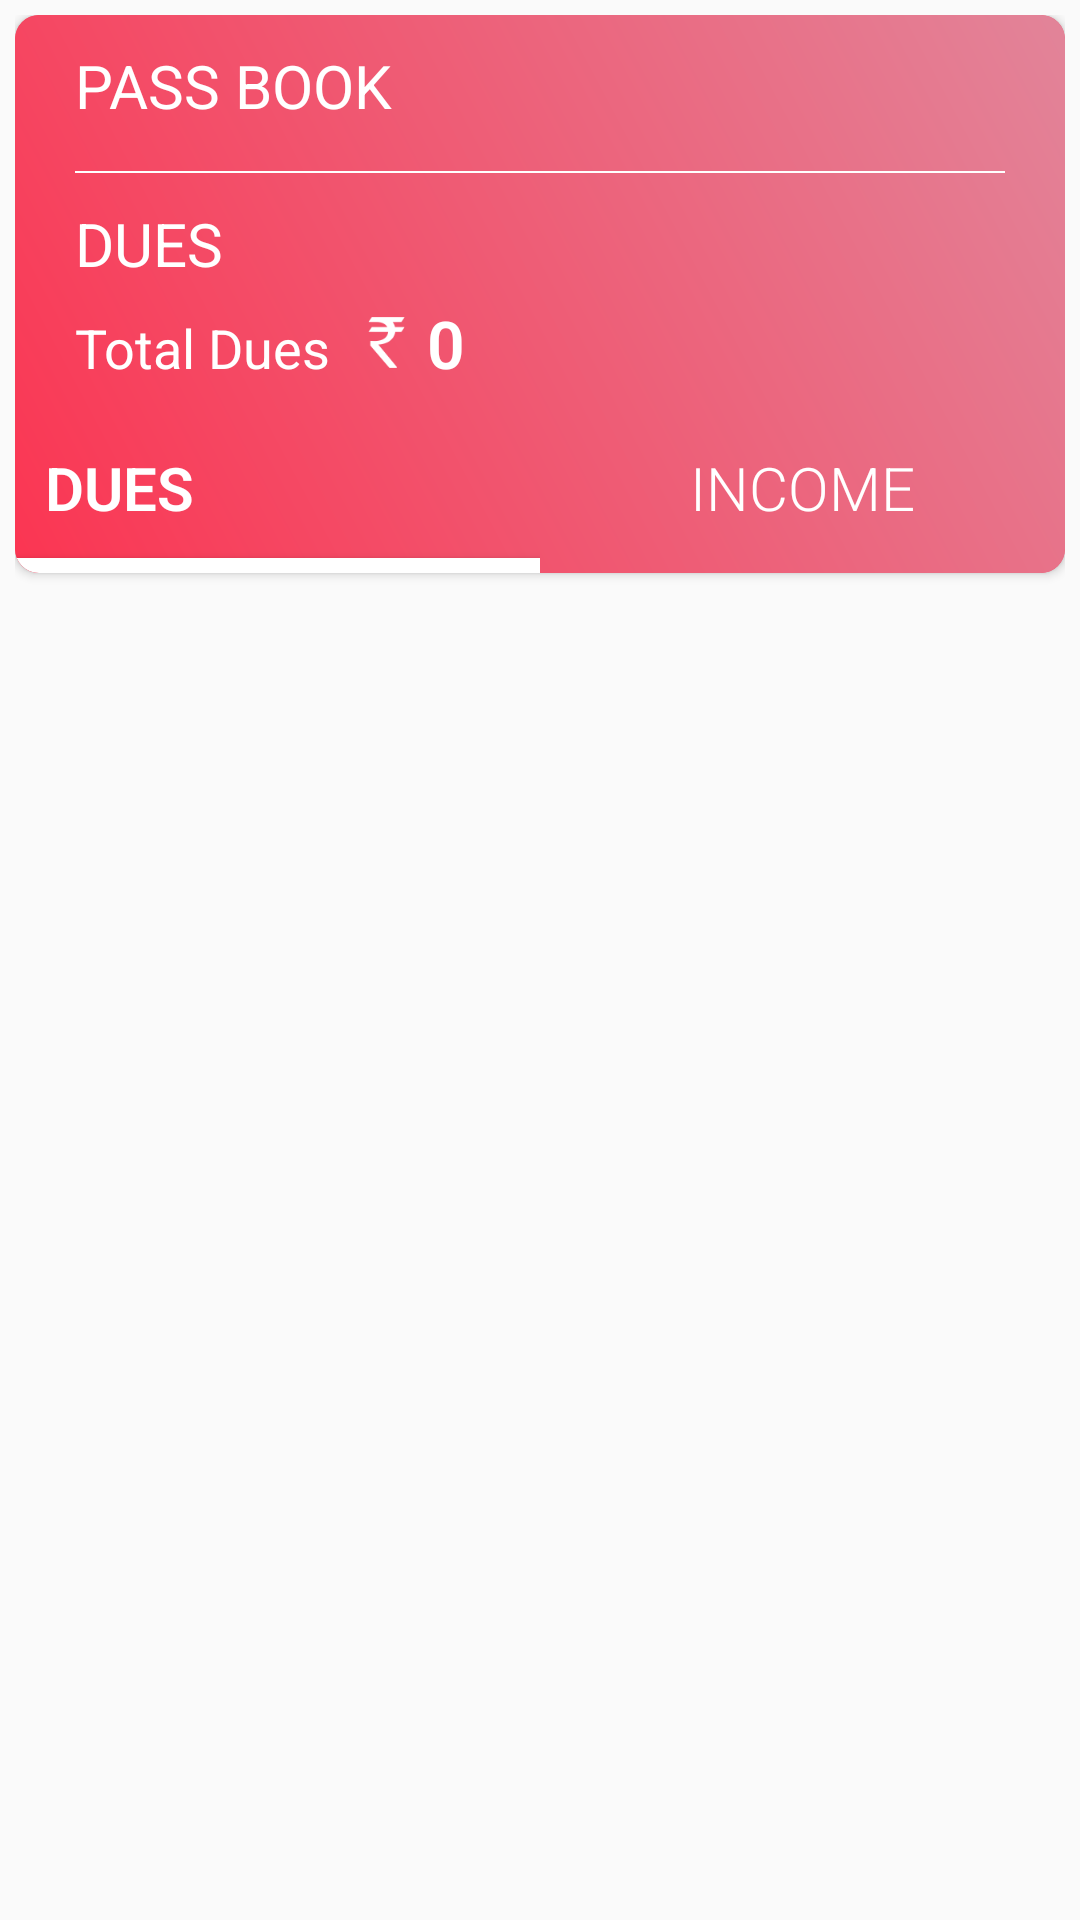

Point at icon controls on the screen. Image size 1080px×1920px, points as point (x, y).
rupee: point (387, 342)
